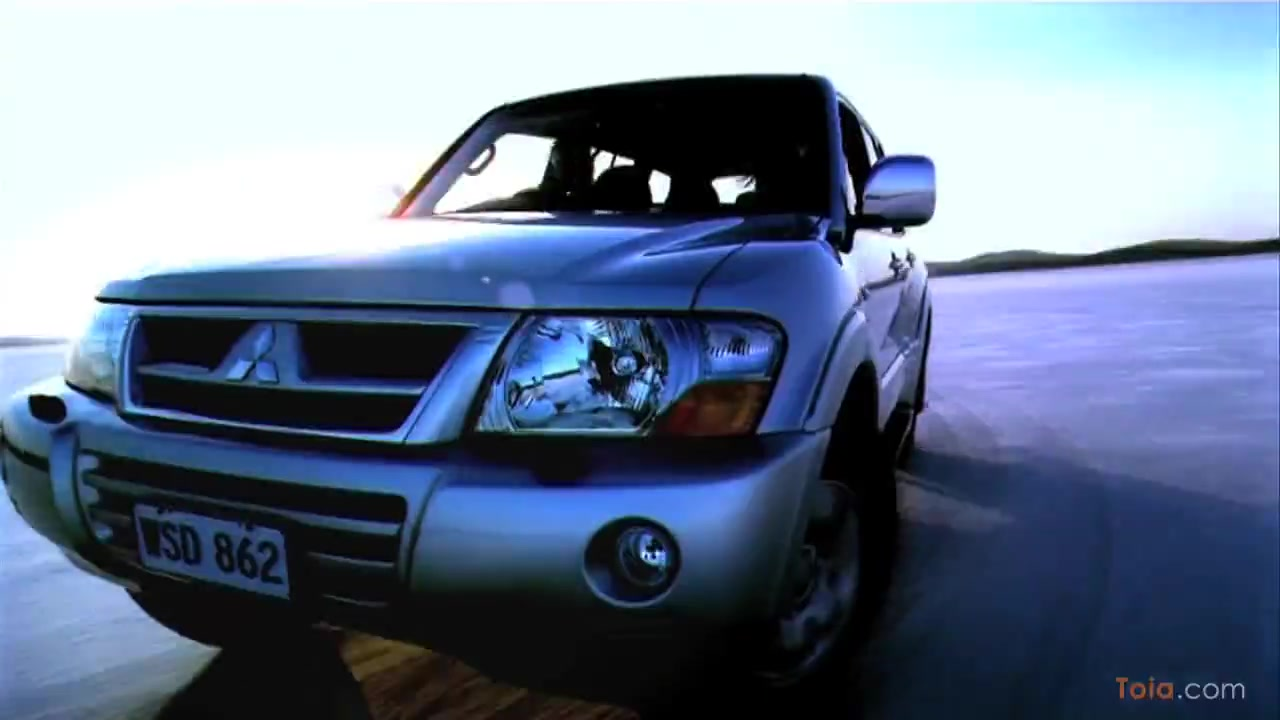car: (4, 72, 939, 694)
